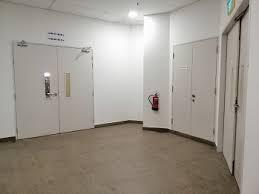exit: (13, 41, 94, 141), (221, 3, 249, 192)
lit_exit_sign: (227, 0, 234, 16)
